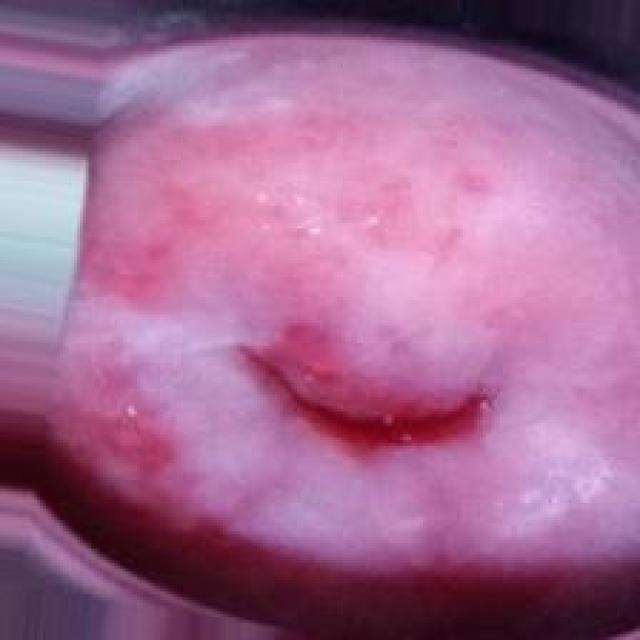type-1: (52, 43, 629, 640)
